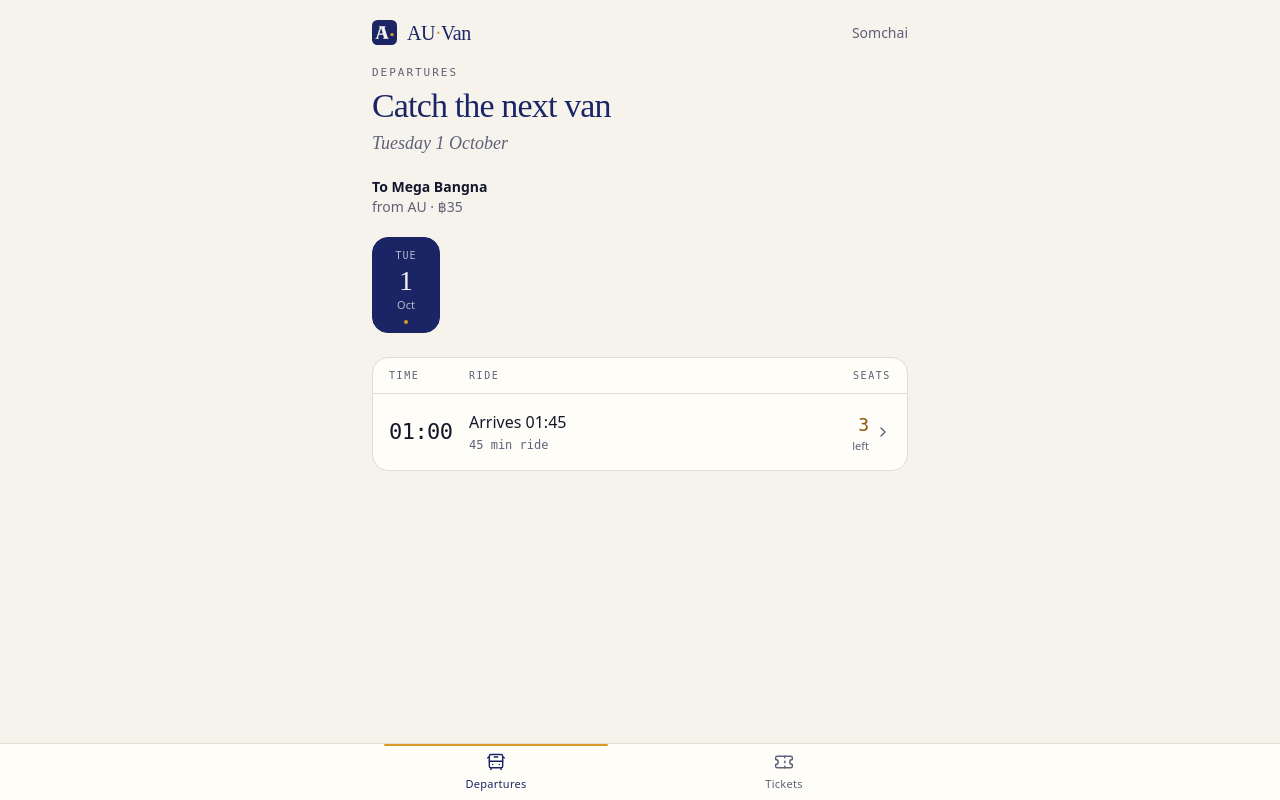
Test case: Student fair-booking rules › sends a student back to the departures when booking has closed
The width and height of the screenshot is (1280, 800).
Click the button with aria-label "Mega Bangna" at (421, 432), box [373,394,907,470]
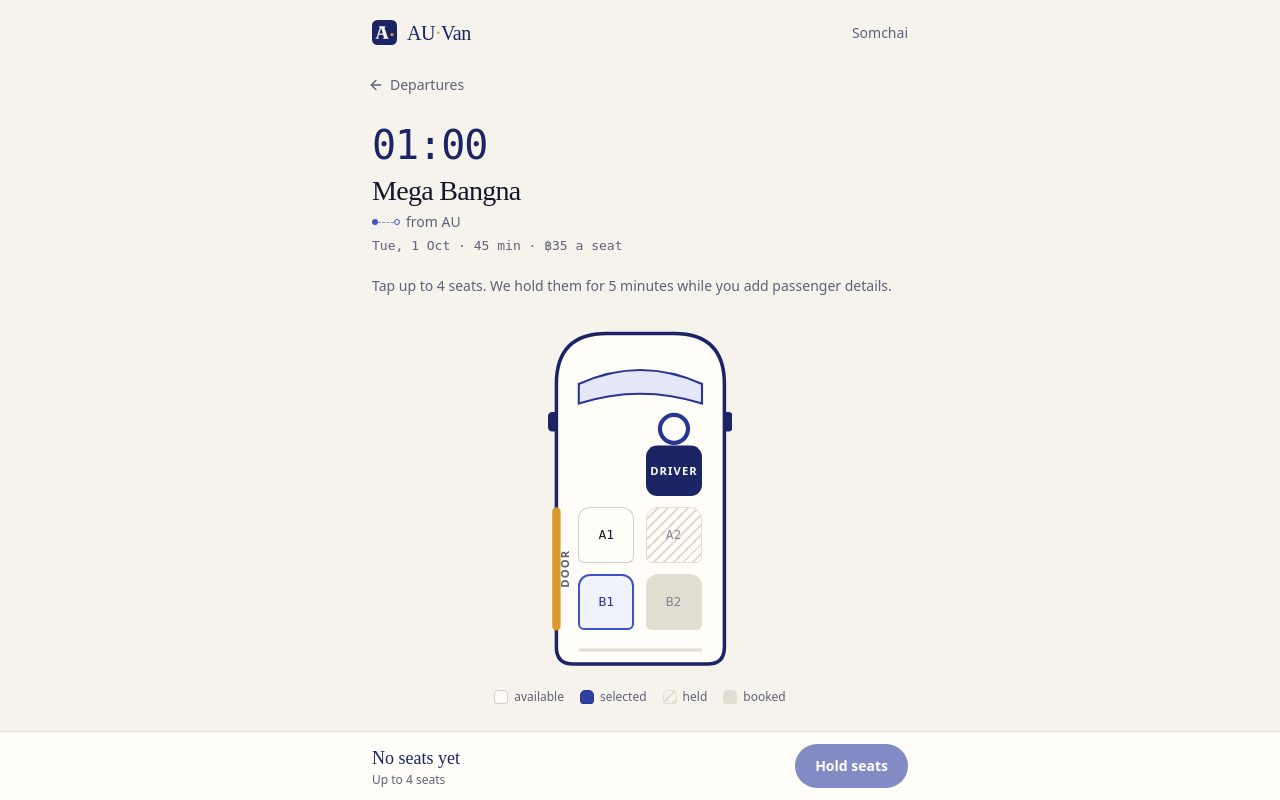
Click the button named "Seat A1, available" at (606, 535), box [578,507,634,563]
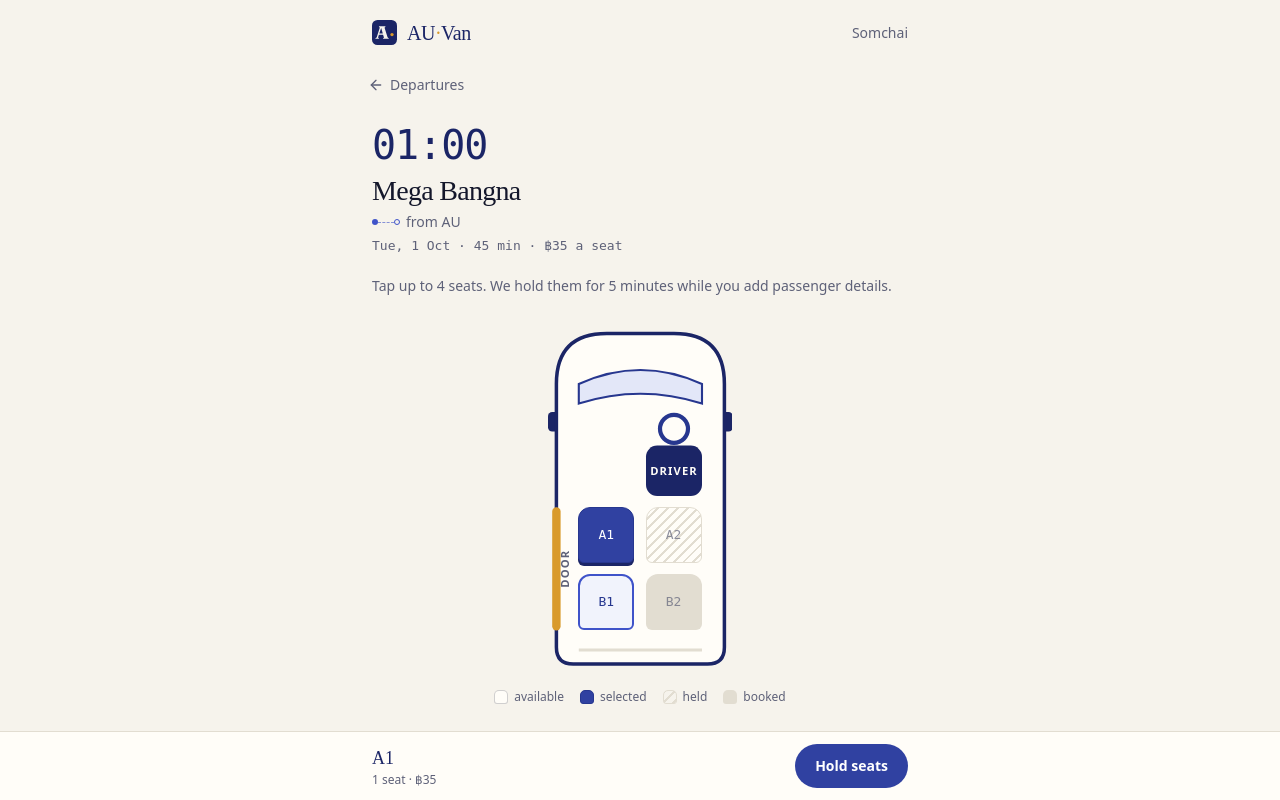
Click the button "Hold seats" at (852, 766), box [795,744,908,788]
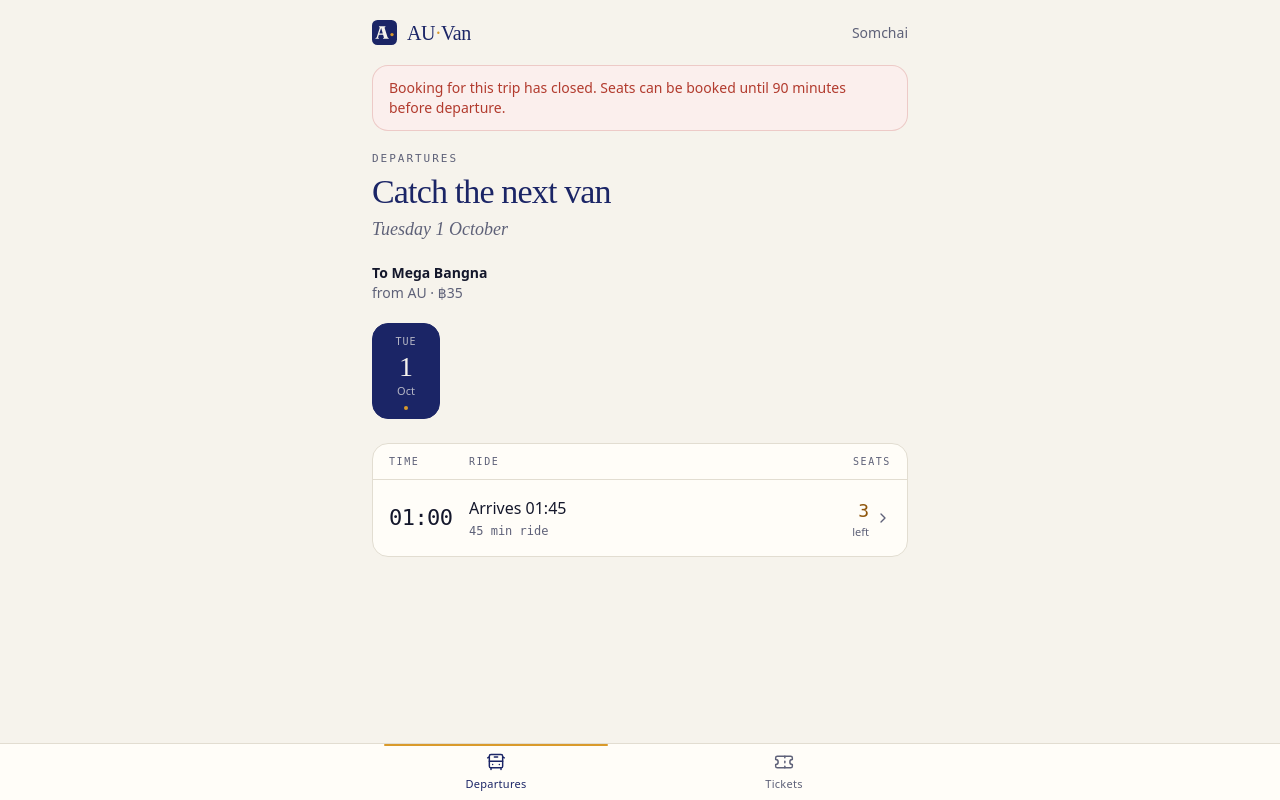
Result: the text "Booking for this trip has closed" is shown at [389,78,846,117]
Result: the heading "Catch the next van" is shown at [372,172,611,210]
